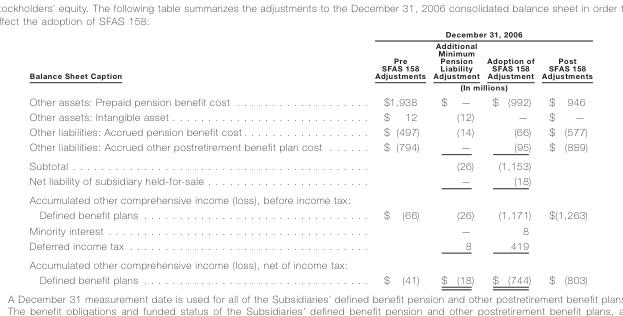table: (28, 29, 591, 284)
table column: (28, 29, 347, 284), (347, 29, 428, 284), (482, 29, 537, 284), (428, 29, 482, 284), (537, 29, 591, 284)
table column header: (28, 29, 591, 93)
table projected row header: (28, 190, 591, 207), (28, 254, 591, 271)
table row: (28, 39, 591, 81), (28, 139, 591, 156), (28, 156, 591, 173), (28, 173, 591, 190), (28, 190, 591, 207), (28, 237, 591, 254), (28, 254, 591, 271), (28, 123, 591, 139), (28, 93, 591, 108), (28, 108, 591, 123), (28, 207, 591, 222), (28, 222, 591, 237), (28, 271, 591, 284), (28, 81, 591, 93), (28, 29, 591, 39)
table spanning cell: (28, 29, 347, 93), (347, 81, 591, 93), (347, 29, 591, 39)
